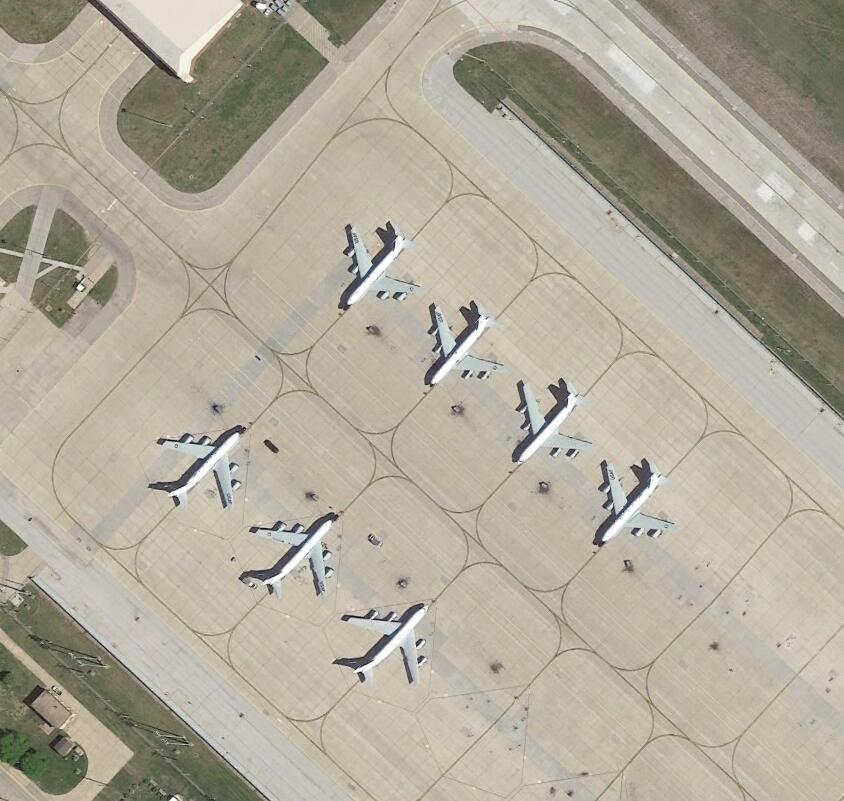A11: (338, 597, 438, 690), (154, 420, 251, 513), (242, 513, 343, 597), (595, 459, 681, 550), (340, 223, 425, 310), (422, 305, 510, 389), (507, 384, 597, 465)
